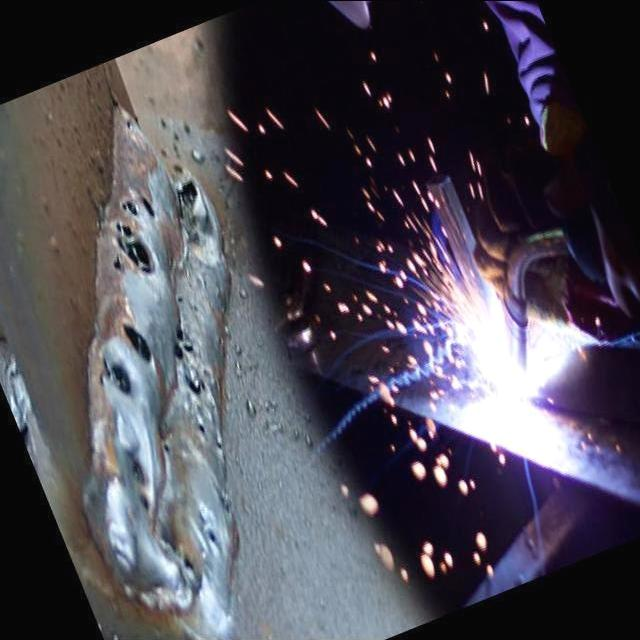defect: (107, 186, 160, 277), (173, 177, 210, 249), (116, 311, 156, 368), (96, 353, 135, 398), (175, 540, 199, 586), (170, 321, 196, 360), (183, 372, 207, 400), (131, 453, 146, 488), (204, 524, 221, 546), (217, 492, 231, 516), (139, 493, 150, 514), (124, 117, 134, 135), (196, 419, 205, 435), (188, 297, 197, 313), (174, 290, 183, 305), (162, 442, 170, 456), (216, 439, 221, 449)
